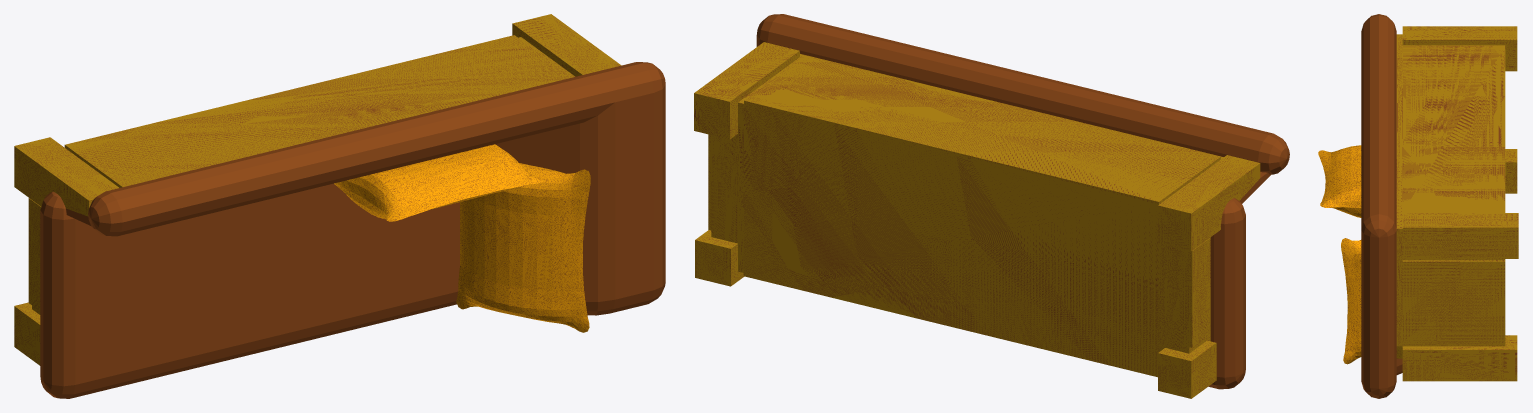
3 renders of one model, left to right at view 1: azimuth 30°, elevation 25°; view 2: azimuth 150°, elevation 25°; view 3: azimuth 270°, elevation 25°, orthographic. The views are drawn at different scales.
Parts seen in each view (by area): view 1: couch; view 2: couch; view 3: couch.
Part boxes in pixels (x1,y1,x2,y2): couch: (14,14,665,398); couch: (694,14,1289,398); couch: (1318,14,1518,398).
Size of the model in its own units: 84.93 by 34 by 33.71.
